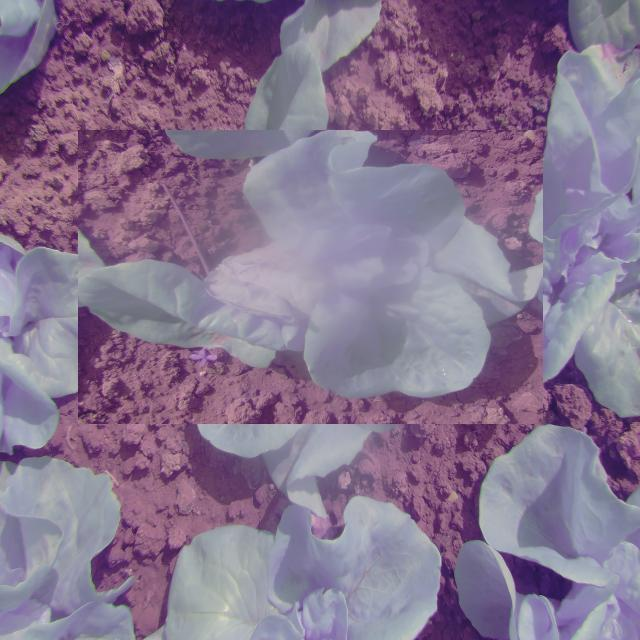vege: (121, 87, 501, 467)
